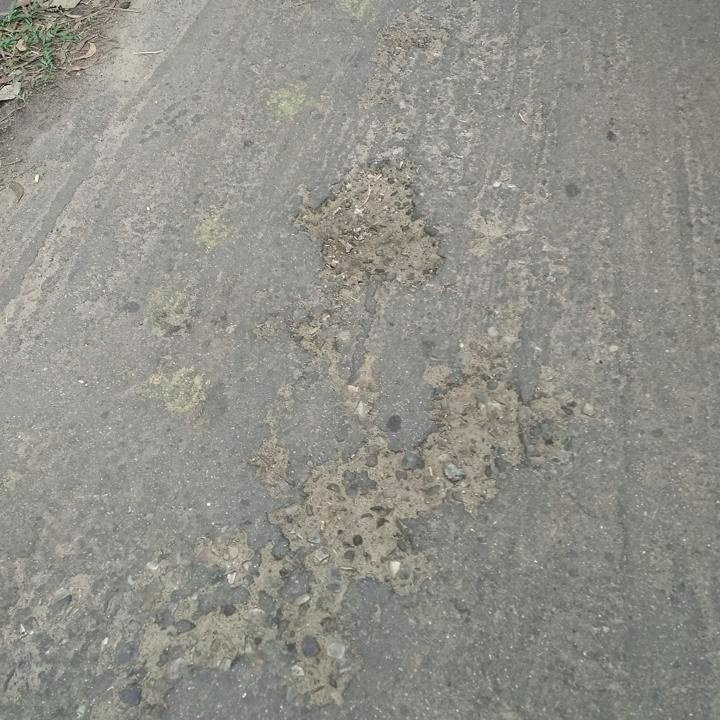pothole: (270, 435, 418, 582), (285, 157, 444, 293), (414, 365, 532, 508)
